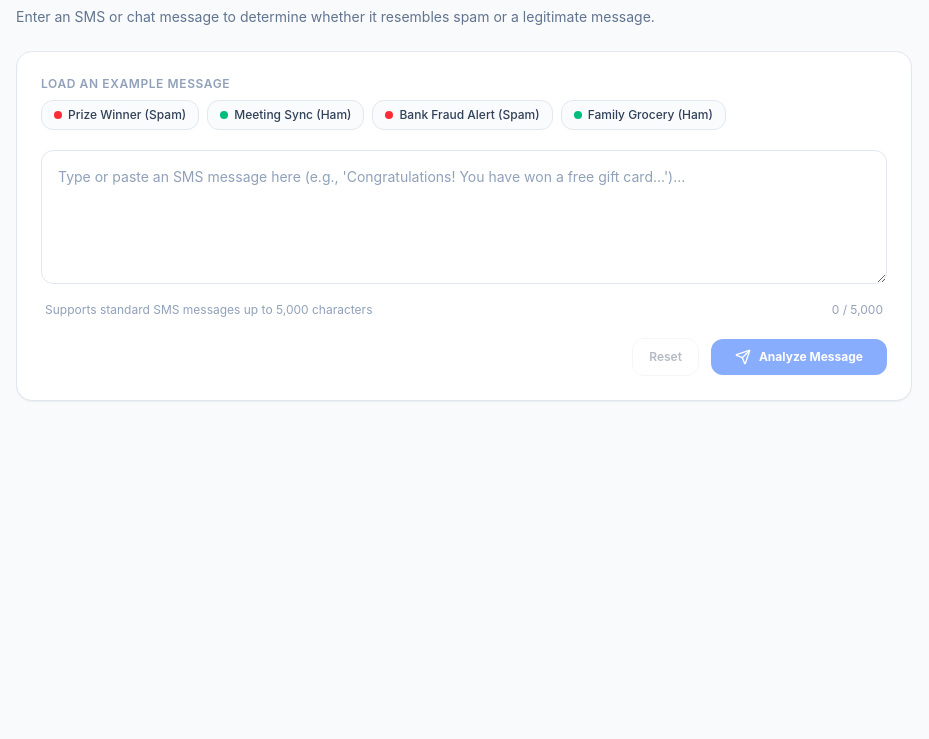
Test: AnalyzerPage Component › submits prediction and displays HAM verdict card
Replace the text in the text box with placeholder "Type or paste an SMS message here" with "Hi, I'll meet you at the library at 3 PM." at (464,217), box [41,150,887,284]
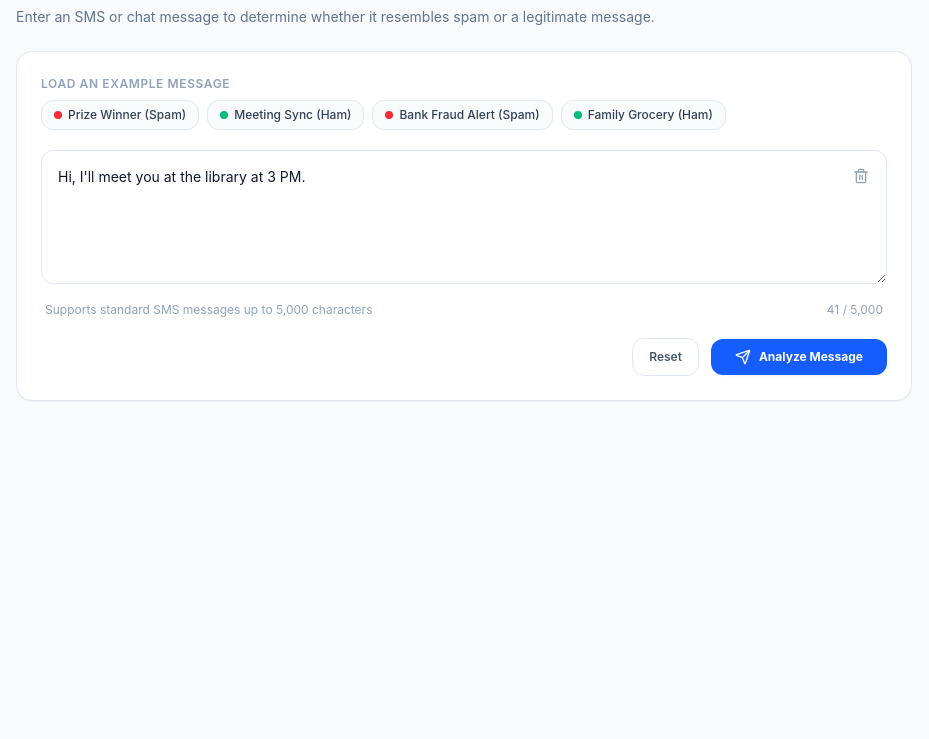
Click the button "Analyze Message" at (799,357), box [711,339,887,375]
(page scrolled)
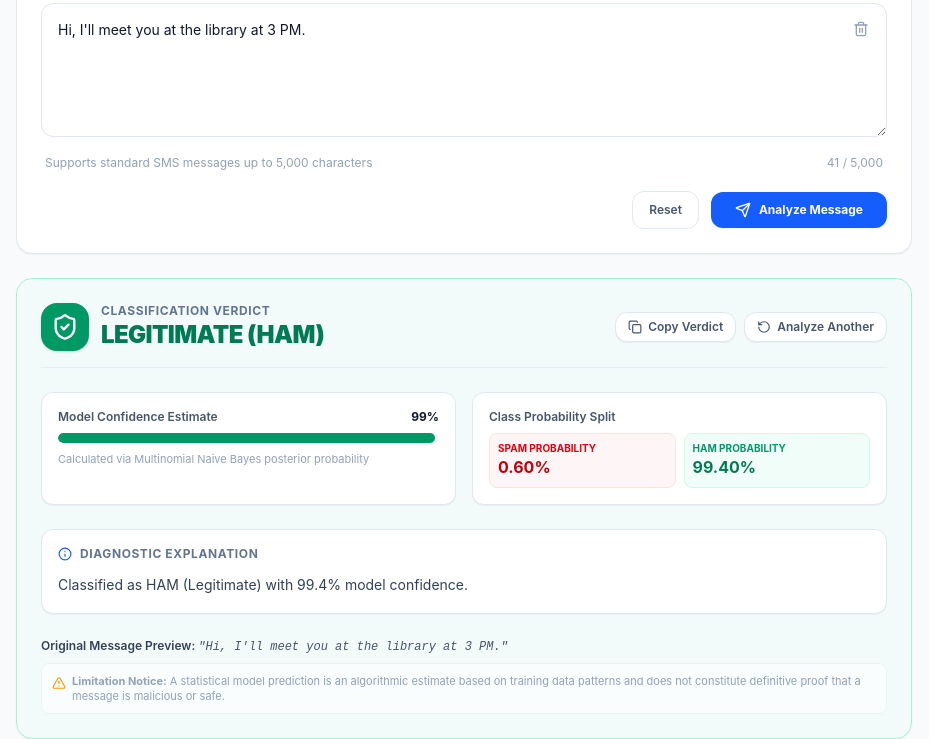
Expected: the text "LEGITIMATE (HAM)" is shown, [101,320,324,349]
Expected: the text "99%" is shown, [411,409,439,425]
Expected: the text "Classified as HAM (Legitimate) with 99.4% model confidence." is shown, [58,576,468,593]
